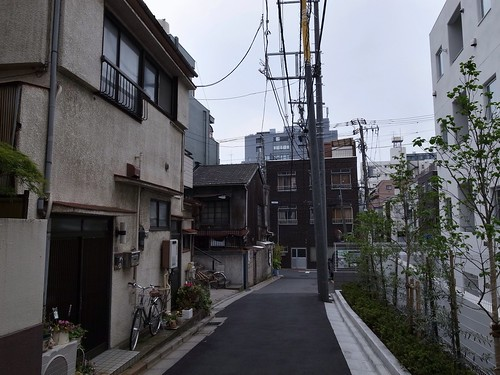bicicle: (126, 284, 165, 342)
building: (1, 44, 193, 375), (434, 1, 500, 288), (264, 157, 357, 280), (194, 162, 264, 276)
sky: (179, 1, 420, 129)
vegetation: (357, 177, 500, 375)
